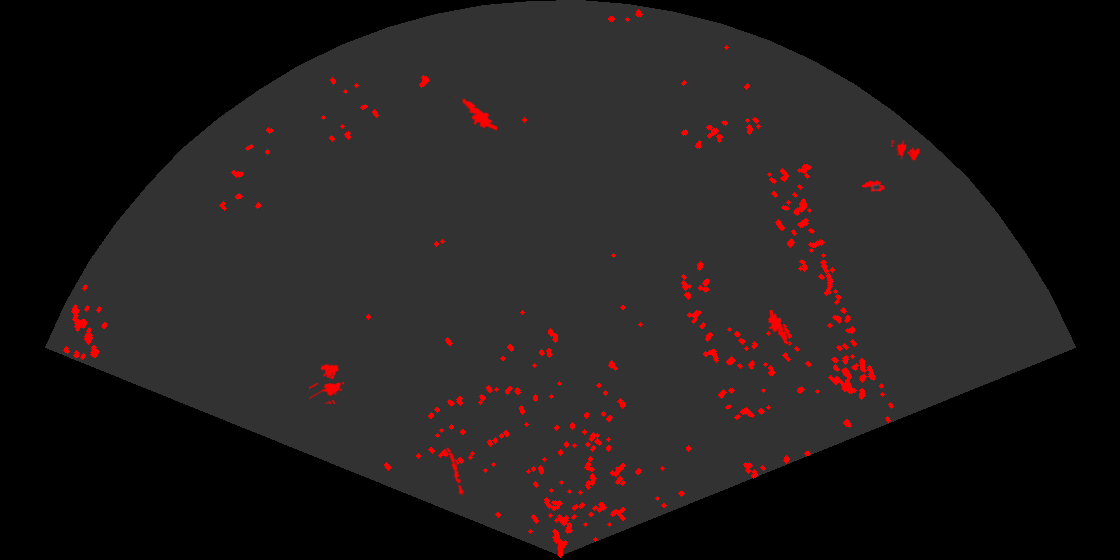AUV: (860, 179, 887, 193)
cage: (309, 362, 346, 404), (891, 140, 922, 162)
chain: (445, 445, 466, 496)
frogman: (453, 95, 497, 132), (766, 310, 790, 346)
